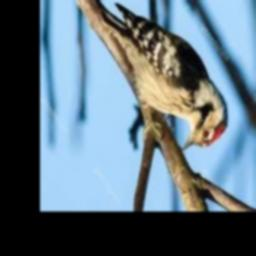Woodpecker: (100, 3, 228, 151)
